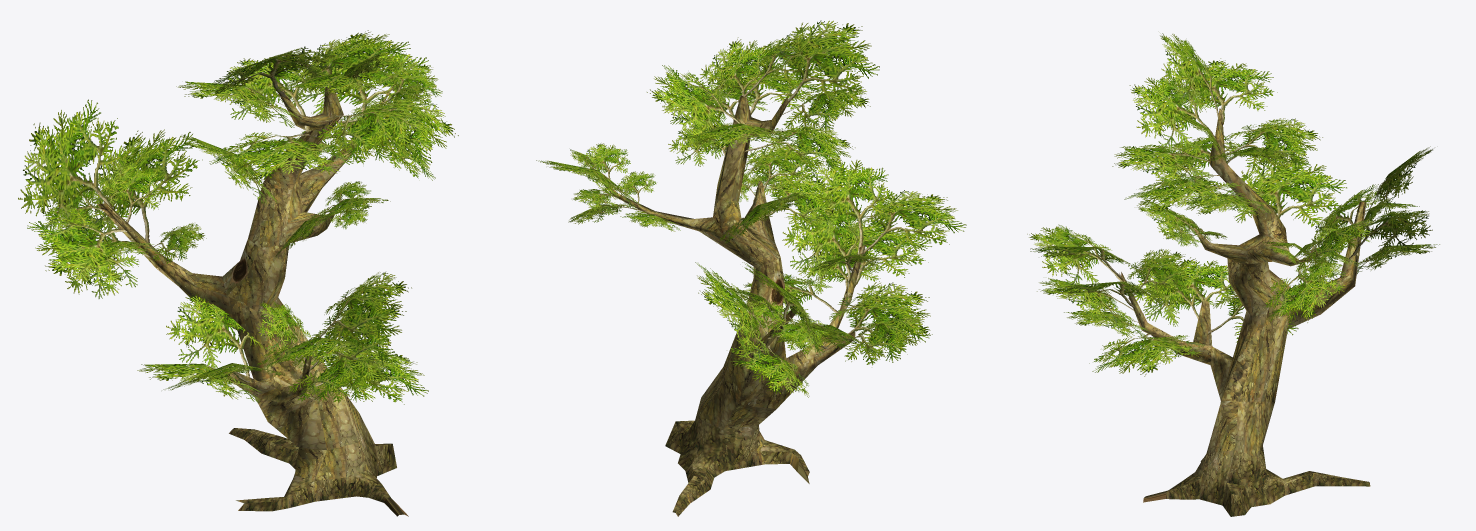
The picture shows the model from 3 angles, left to right: view 1: azimuth 30°, elevation 25°; view 2: azimuth 150°, elevation 25°; view 3: azimuth 270°, elevation 25°; orthographic projection. The views are drawn at different scales.
Visible parts, largest first — view 1: geom_node_0; view 2: geom_node_0; view 3: geom_node_0.
Boxes of the visible parts, x1,y1,x2,y2 form: geom_node_0: (18,30,458,516); geom_node_0: (536,20,966,516); geom_node_0: (1027,33,1439,516).
Bounding box in the file's own units: 10.31 × 11.67 × 11.4.
2 materials, 2 textured.
